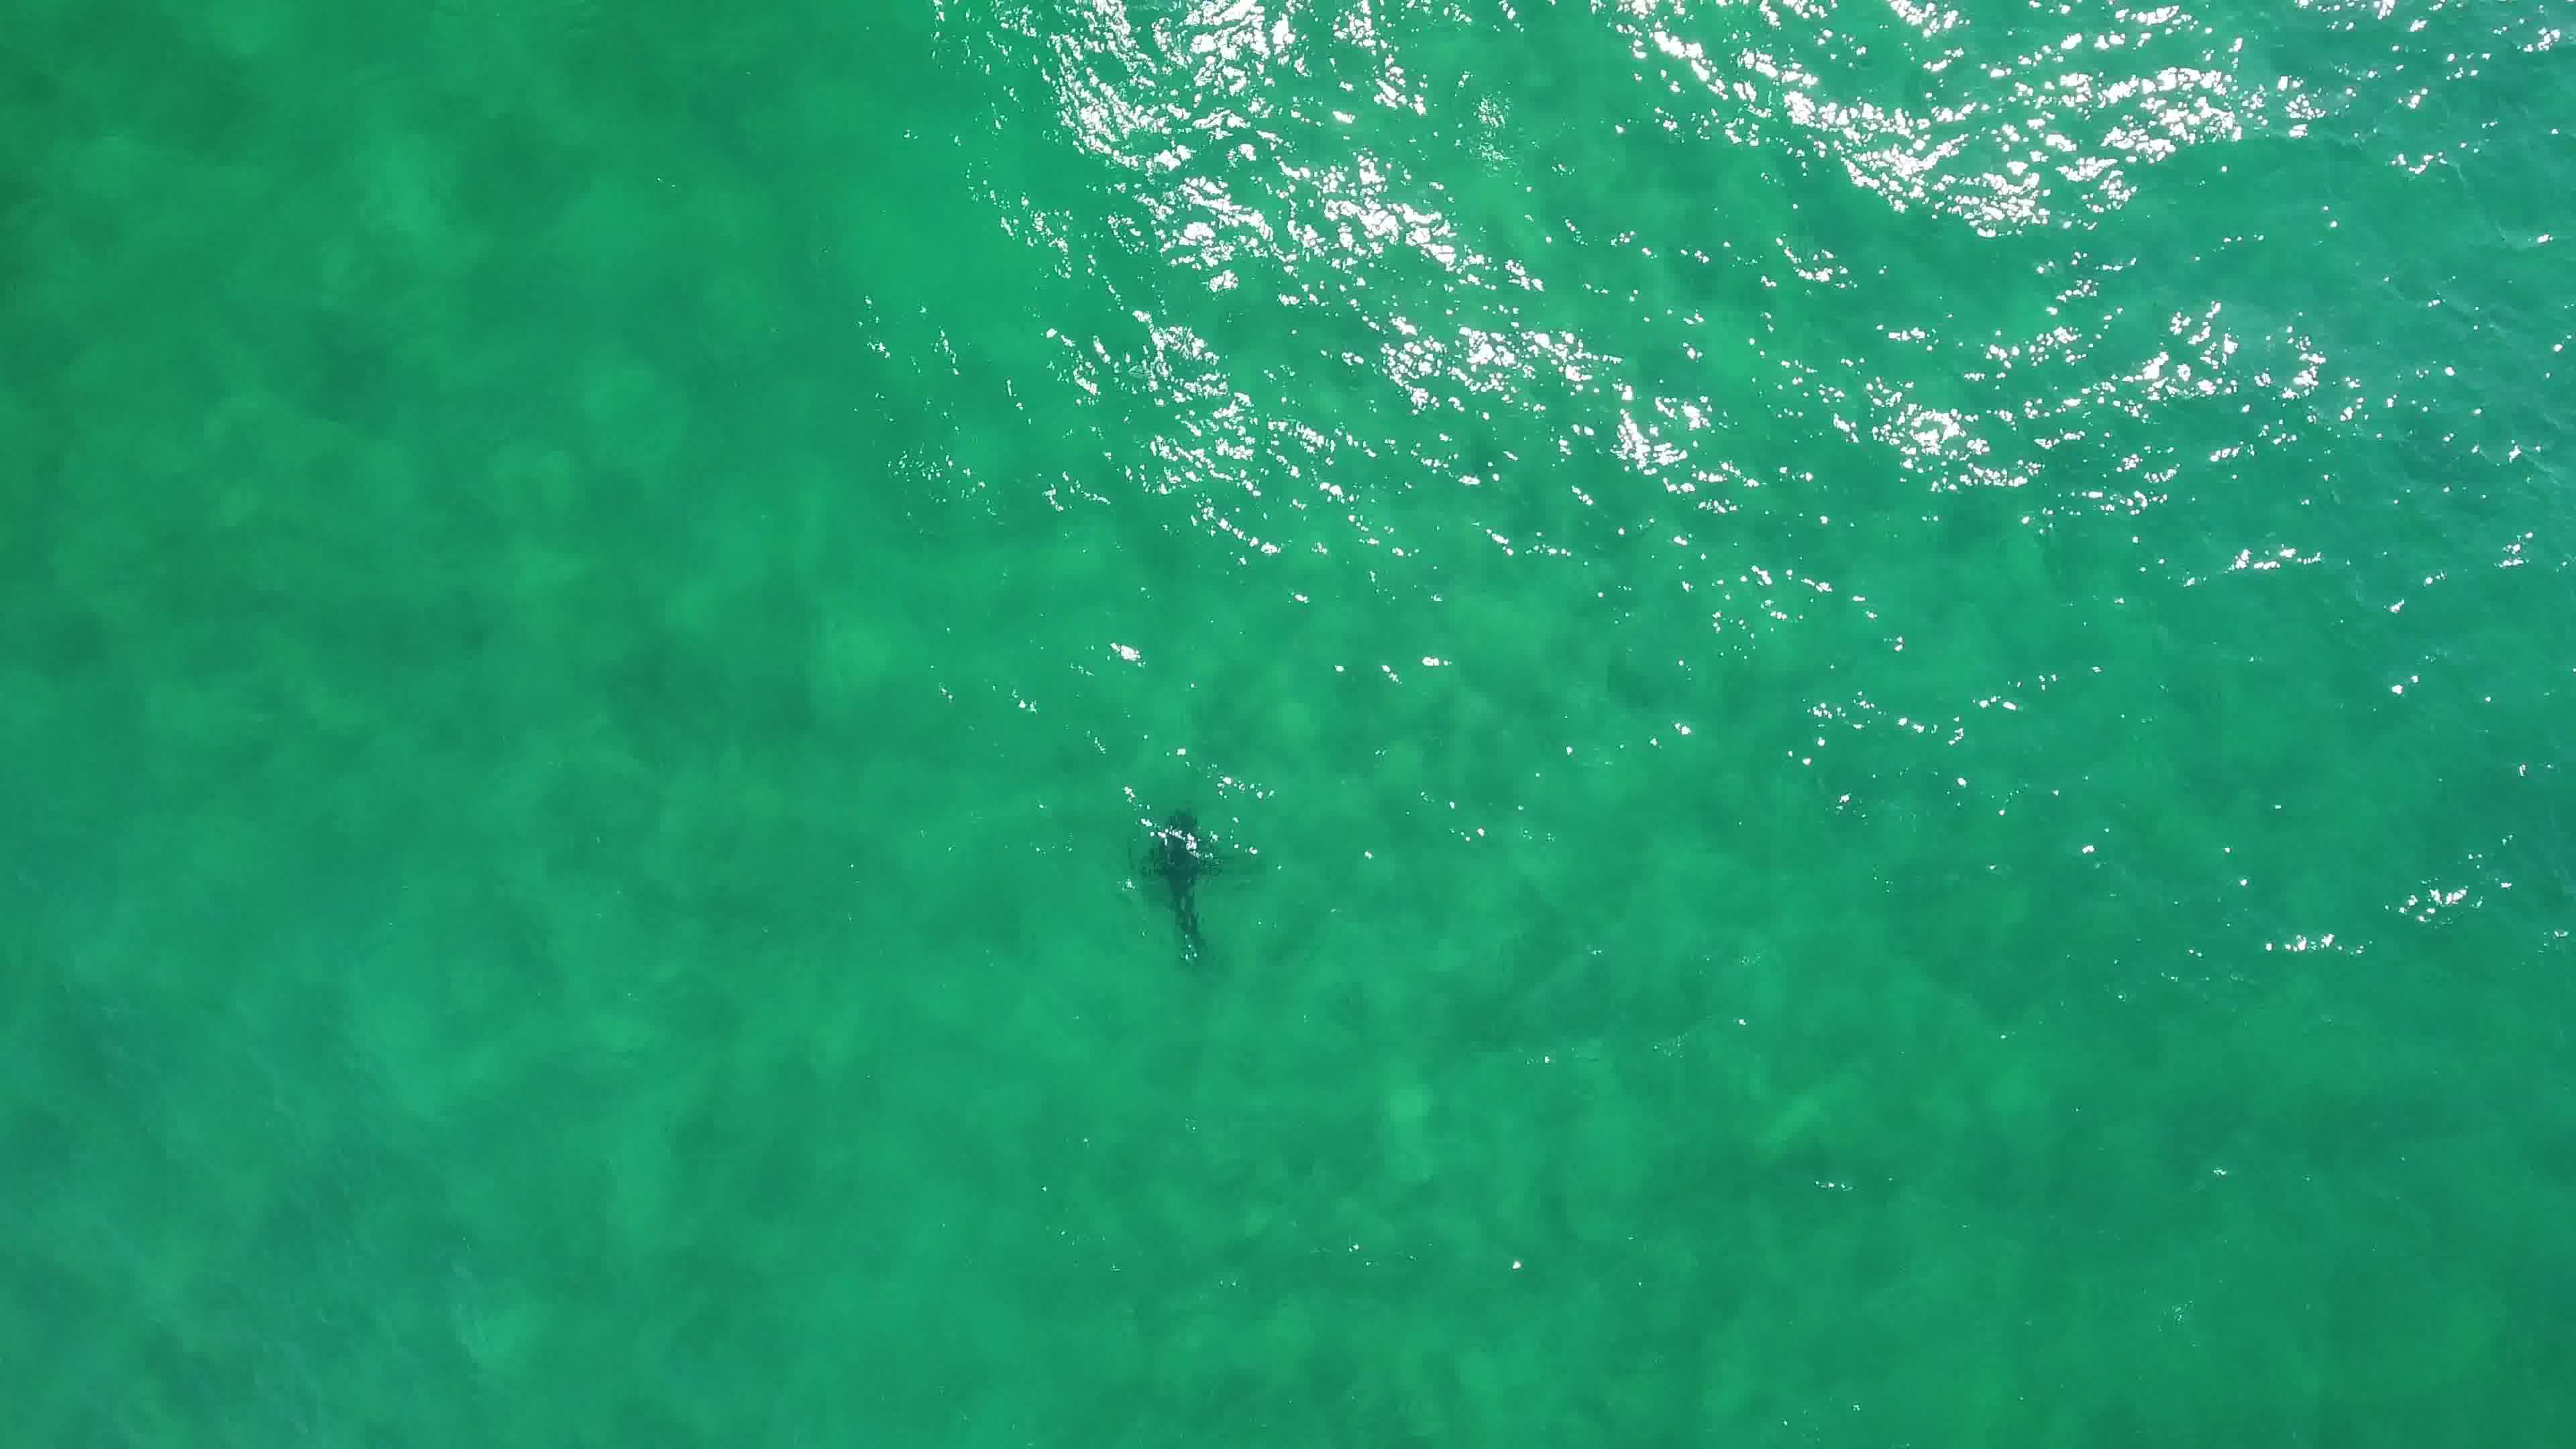shark: (1134, 800, 1228, 966)
